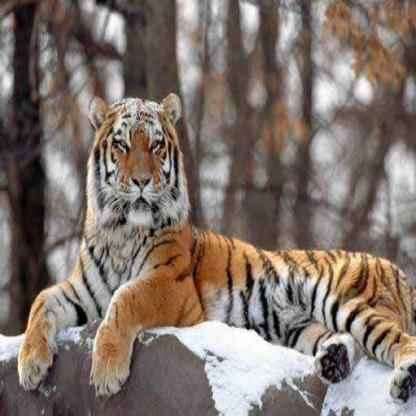Tiger: (5, 85, 415, 399)
